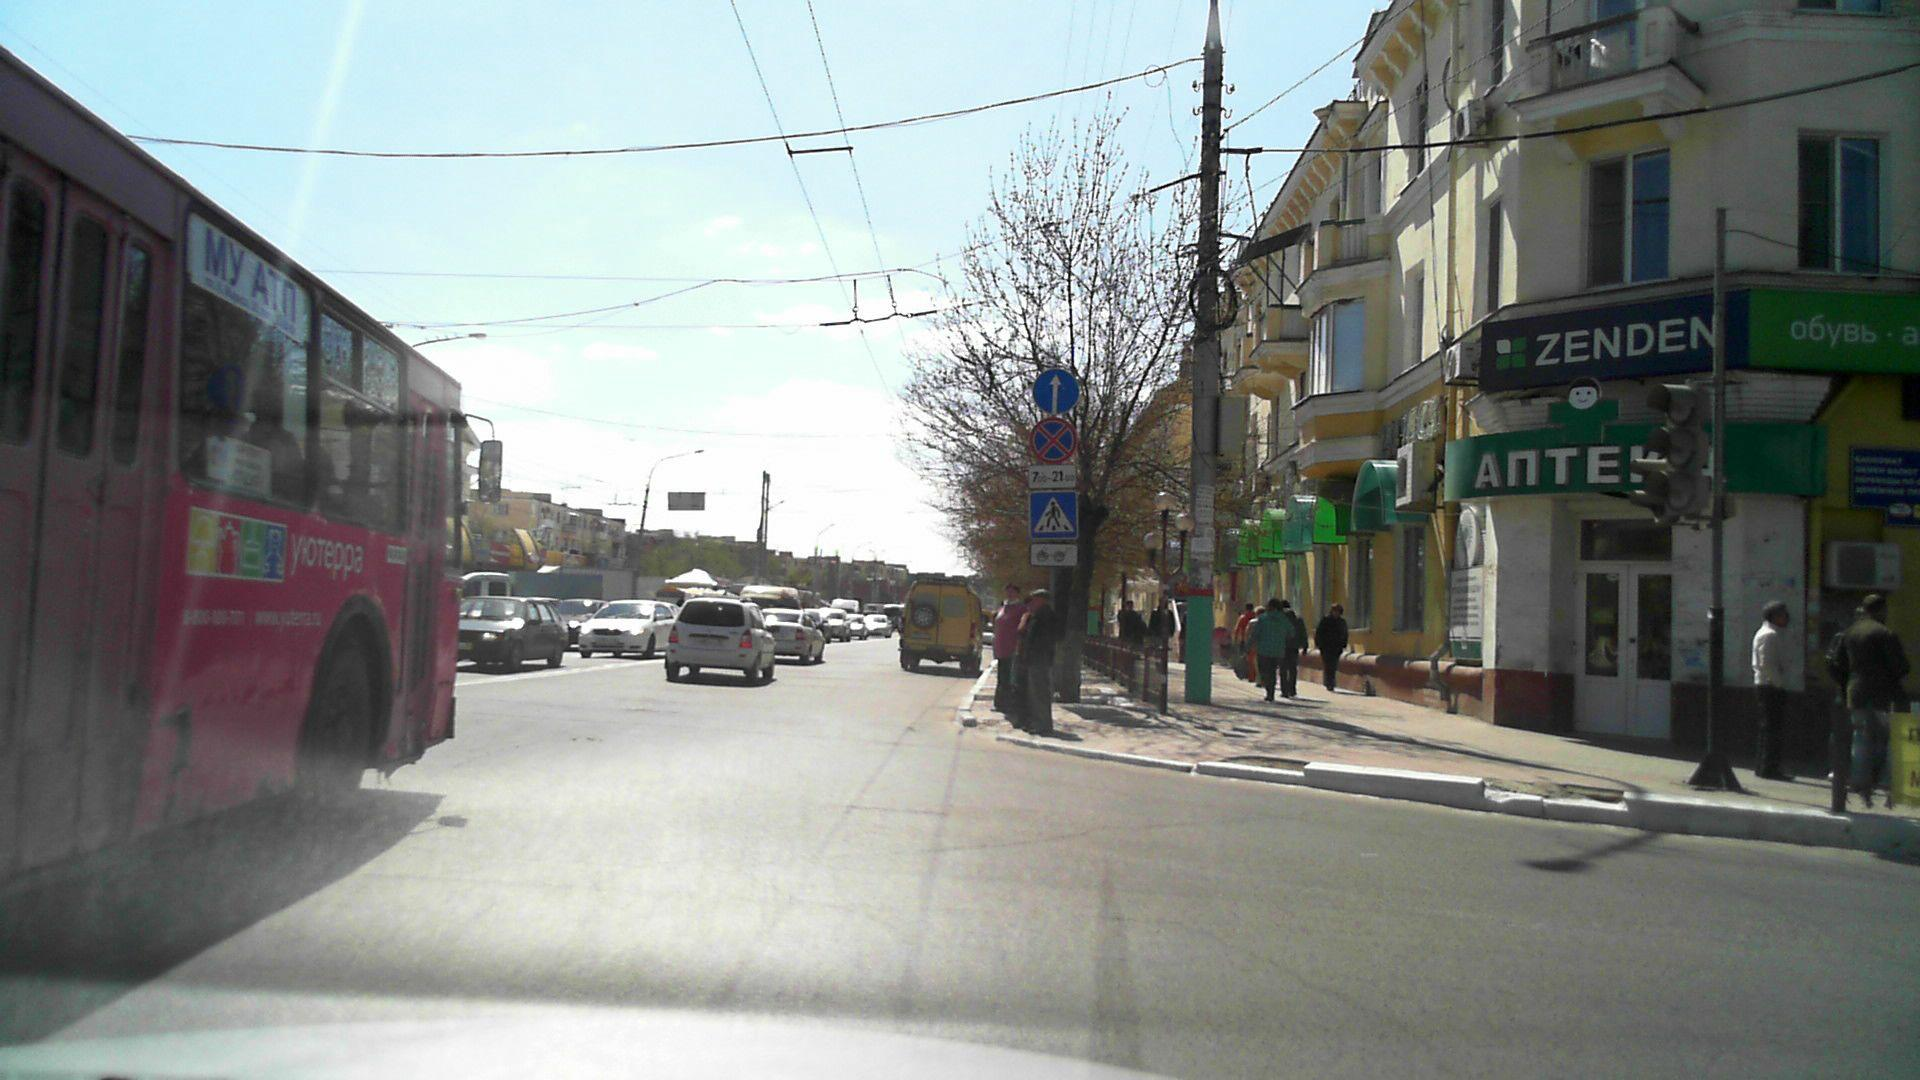3_27: (1031, 419, 1076, 462)
4_1_1: (1031, 368, 1079, 414)
5_19_1: (1027, 491, 1080, 537)
8_15: (1030, 545, 1080, 568)
8_5_4: (1030, 465, 1077, 487)
